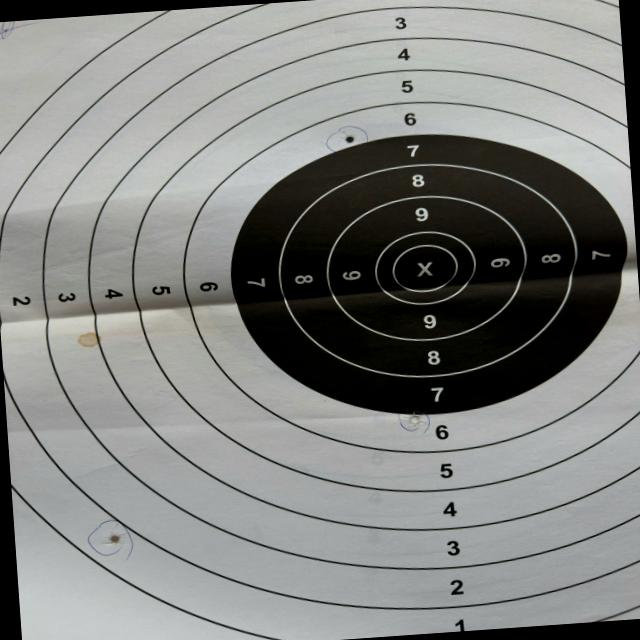bullet: (408, 413, 421, 427), (344, 133, 355, 145), (107, 535, 118, 543)
target: (0, 0, 640, 640)
